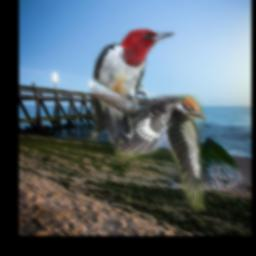Woodpecker: (113, 95, 205, 213), (92, 28, 174, 151)
